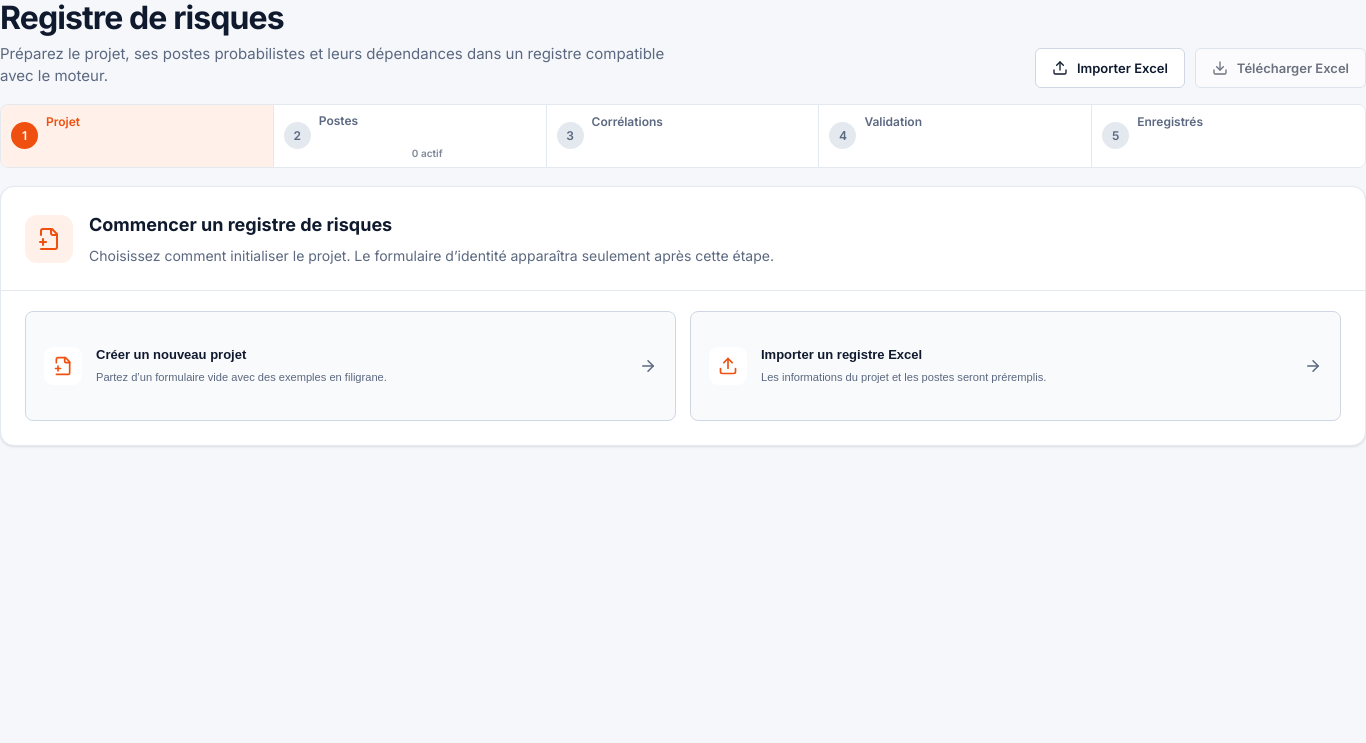
Scenario: RiskRegisterPage › demande de créer ou importer un projet avant d’afficher son identité
Check: the heading "Commencer un registre de risques" is shown, box [89,214,392,235]
Check: the text "Identité et cadre de l’analyse" is not shown
What coordinates should you click on to do the following:
click the button "Créer un nouveau projet"
I would click on:
 (63, 366)
Its box is [25,312,676,422].
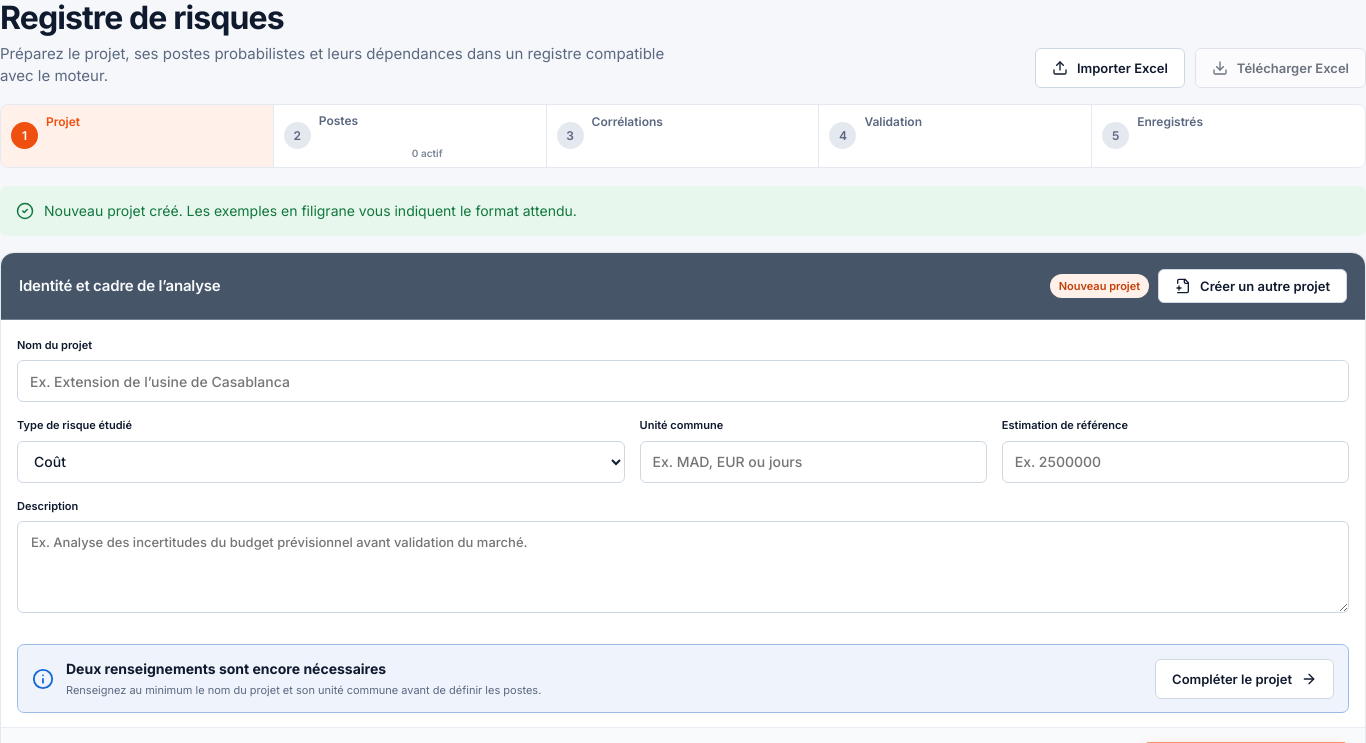
Check: the heading "Identité et cadre de l’analyse" is shown, box [19,274,220,297]
Check: the text "Deux renseignements sont encore nécessaires" is shown, box [66,660,386,677]
